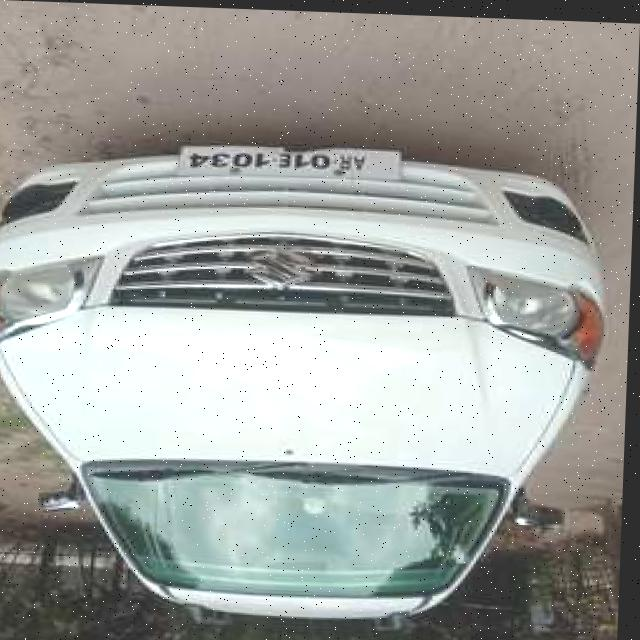plate: (179, 138, 403, 178)
